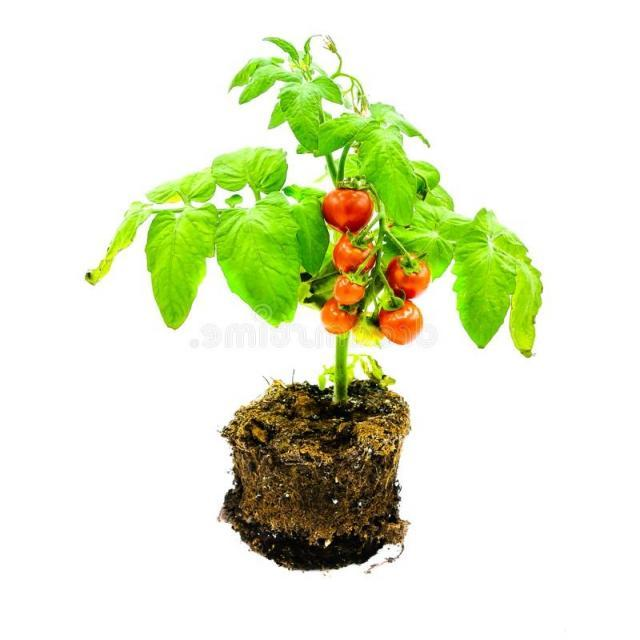tomato: (89, 33, 546, 401)
